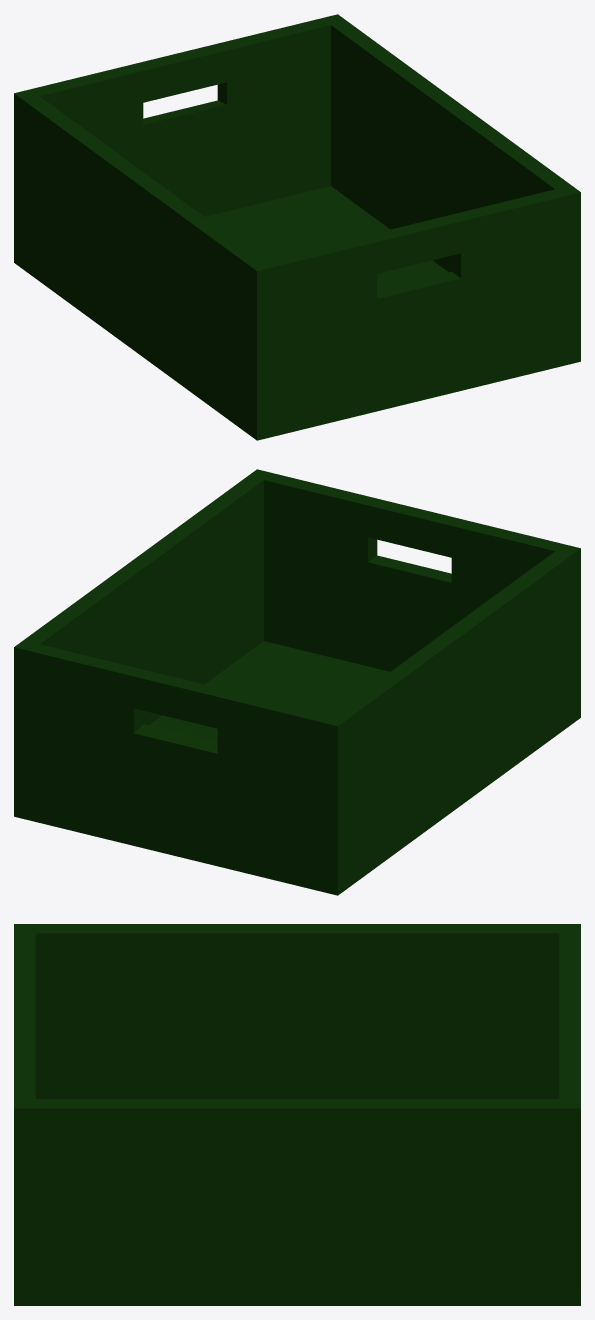
The picture shows the model from 3 angles, top to bottom: view 1: azimuth 30°, elevation 25°; view 2: azimuth 150°, elevation 25°; view 3: azimuth 270°, elevation 25°; orthographic projection. The views are drawn at different scales.
Parts seen in each view (by area): view 1: Box_01; view 2: Box_01; view 3: Box_01.
Part boxes in pixels (x1,y1,x2,y2): Box_01: (14, 14, 580, 440); Box_01: (14, 469, 580, 895); Box_01: (14, 924, 580, 1305).
Bounding box in the file's own units: 300 × 150 × 390.
